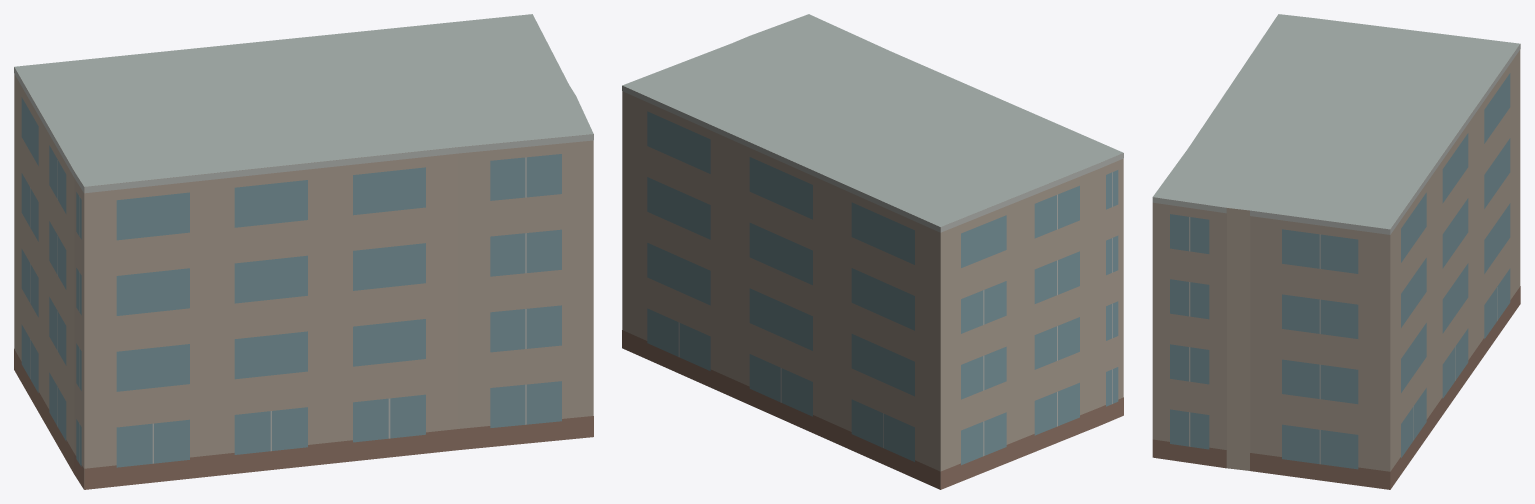
Rendered from survey-upis-32872740.glb.
3 views of the same model, side by side, from view 1: azimuth 30°, elevation 25°; view 2: azimuth 150°, elevation 25°; view 3: azimuth 270°, elevation 25° (orthographic). The views are drawn at different scales.
Visible parts, largest first — view 1: survey-upis-32872740.tmp; view 2: survey-upis-32872740.tmp; view 3: survey-upis-32872740.tmp.
Boxes of the visible parts, x1=… form: survey-upis-32872740.tmp: x1=14, y1=14, x2=593, y2=489; survey-upis-32872740.tmp: x1=622, y1=14, x2=1123, y2=489; survey-upis-32872740.tmp: x1=1152, y1=14, x2=1520, y2=489.
Bounding box in the file's own units: 20.41 × 11.5 × 14.73.
